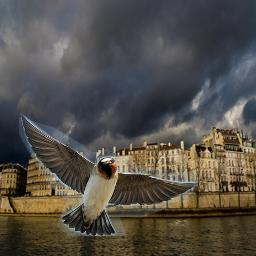Swallow: (19, 113, 198, 236)
